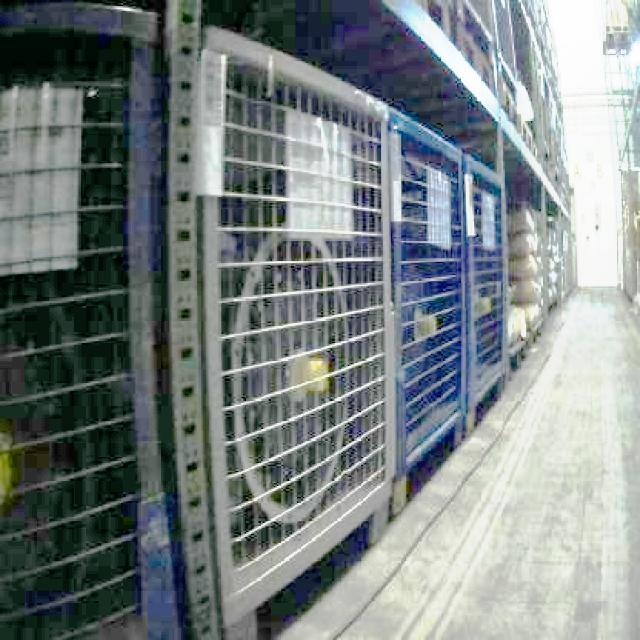ground: (258, 283, 638, 638)
pallet: (166, 23, 398, 638), (397, 108, 577, 489)
